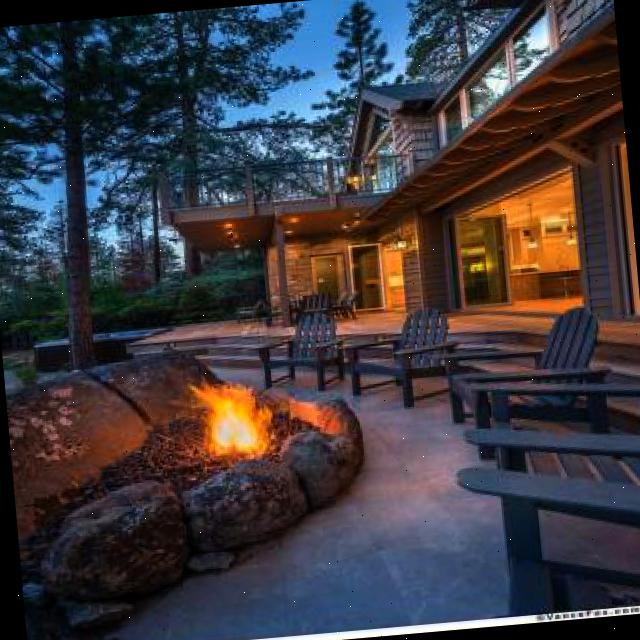fire: (169, 354, 278, 468)
